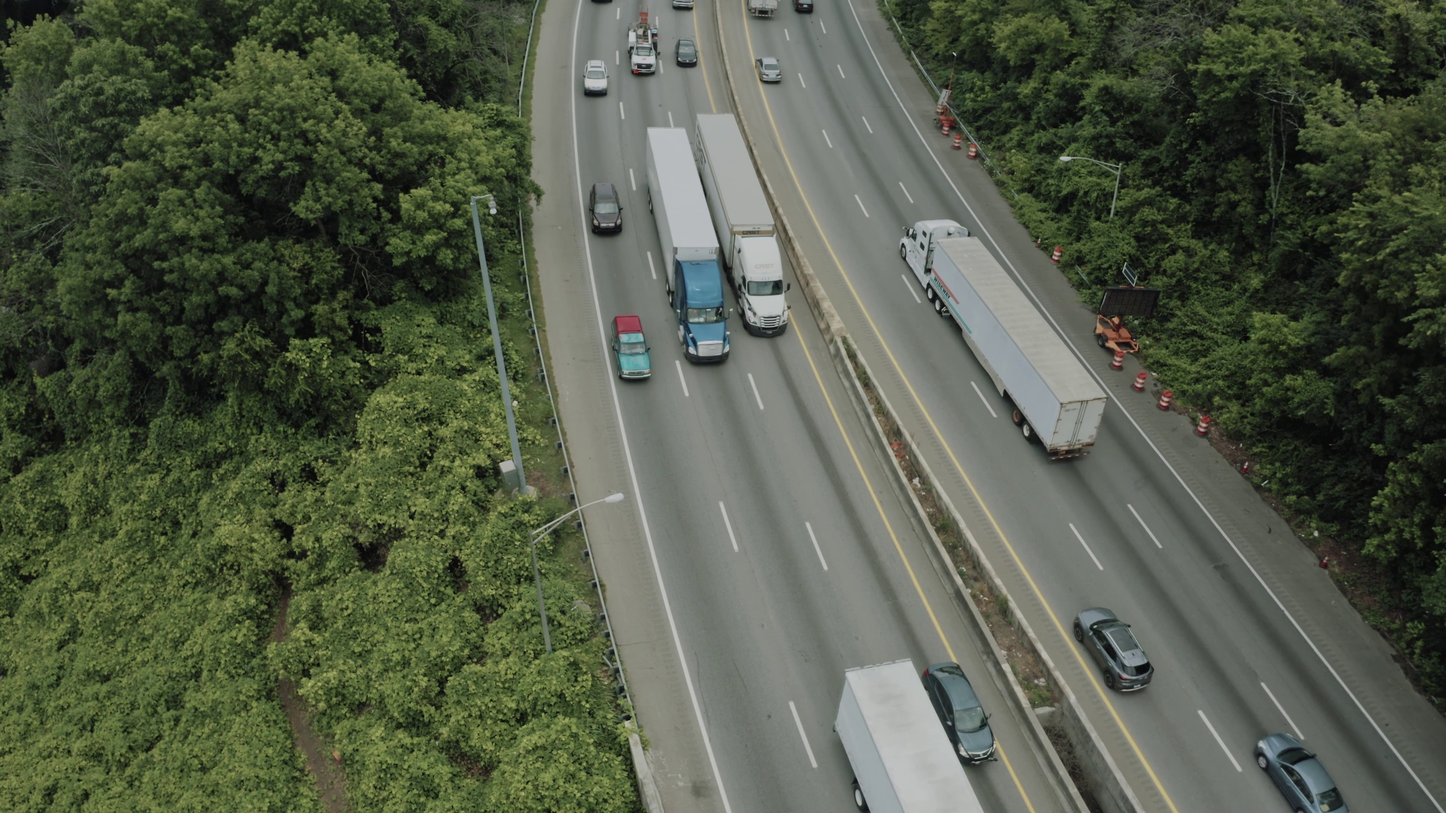Vehicle: (919, 656, 1006, 768), (1073, 607, 1161, 699), (1253, 732, 1350, 813), (669, 250, 732, 368), (896, 213, 981, 295), (730, 230, 791, 338), (610, 314, 652, 380), (589, 182, 623, 234), (627, 22, 659, 75), (627, 24, 660, 75), (583, 60, 609, 96), (755, 56, 782, 82), (675, 38, 698, 67), (792, 0, 814, 12), (672, 0, 694, 10), (1196, 415, 1205, 433), (1319, 557, 1330, 569), (591, 0, 613, 4)
